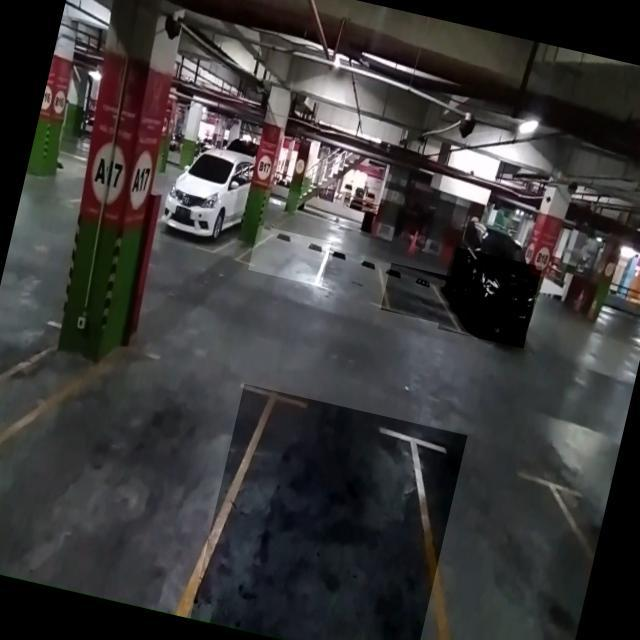empty: (189, 383, 466, 640), (247, 224, 331, 286), (380, 262, 451, 324), (316, 248, 390, 305)
occupied: (153, 147, 254, 257), (437, 246, 542, 348)
